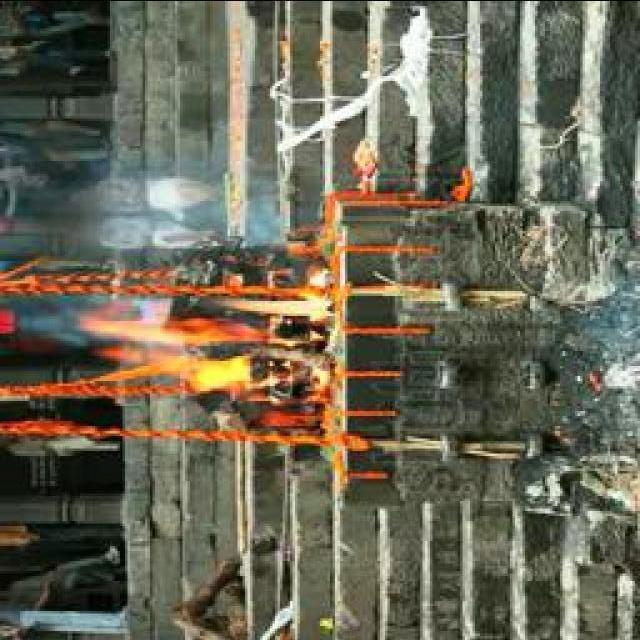Fire: (88, 270, 330, 396)
